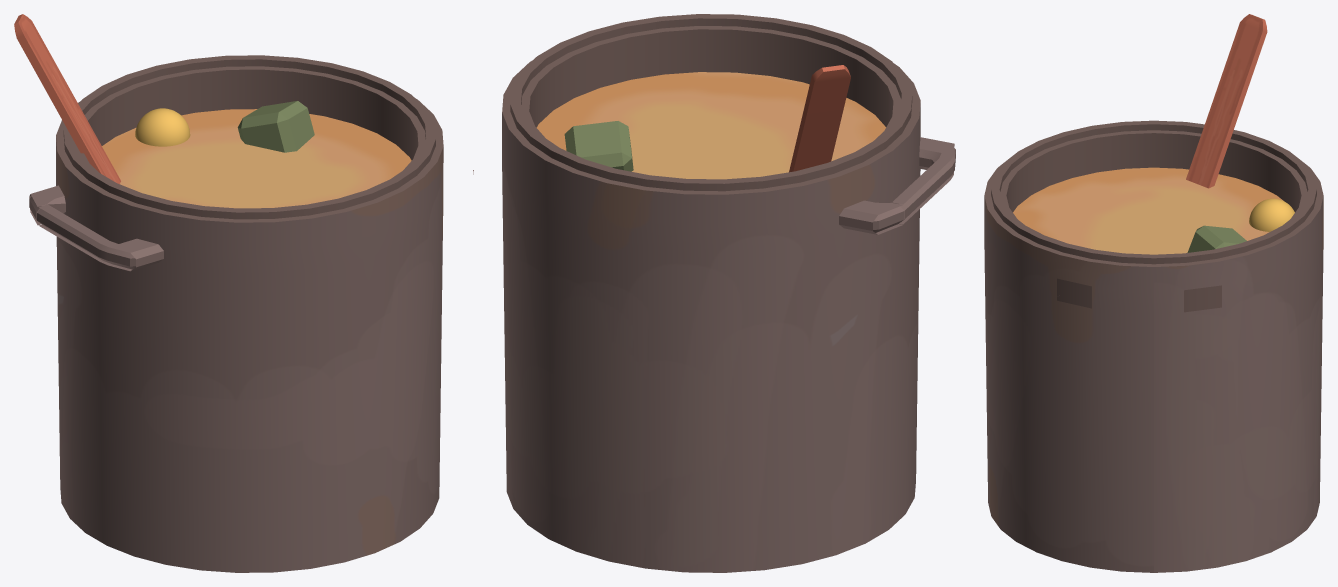
File: pot shump asset.fbx
3 renders of one model, left to right at view 1: azimuth 30°, elevation 25°; view 2: azimuth 150°, elevation 25°; view 3: azimuth 270°, elevation 25°, orthographic. The views are drawn at different scales.
Visible parts, largest first — view 1: pot; view 2: pot; view 3: pot.
Boxes of the visible parts, x1,y1,x2,y2 form: pot: (14,14,473,572); pot: (502,14,955,572); pot: (984,14,1323,572).
Size of the model in its own units: 147 by 181 by 135.
